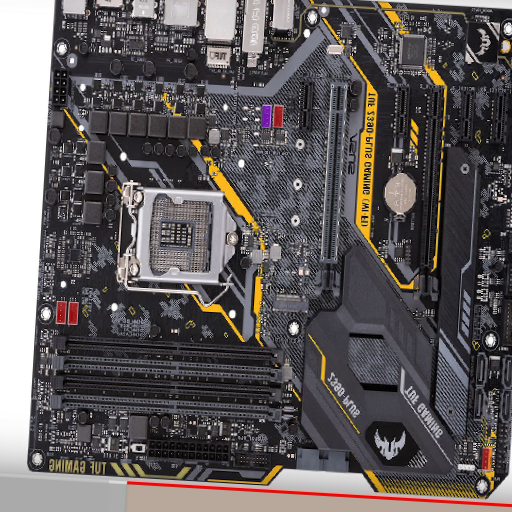CPU: (119, 183, 240, 298)
GPU: (413, 85, 445, 301), (316, 80, 347, 302)
MOTHERBOARD: (28, 1, 512, 472)
RAM: (49, 335, 286, 426)
SSD: (272, 291, 310, 315)
